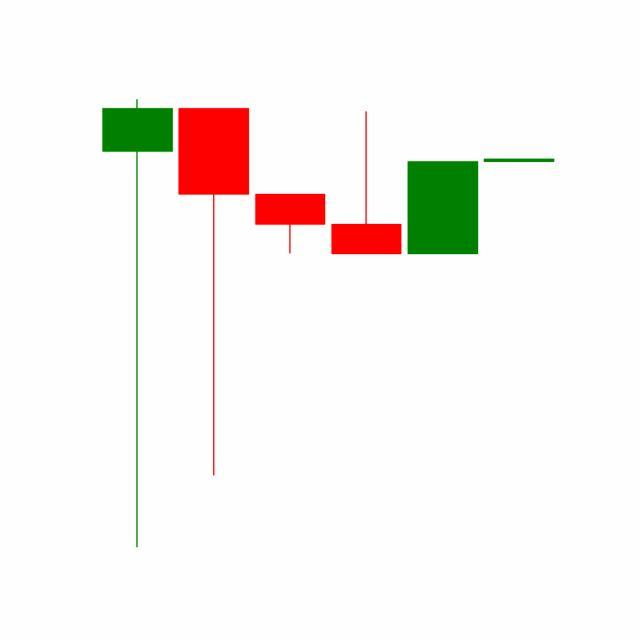Marubozu: (404, 160, 482, 256)
